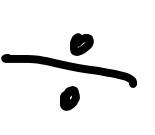div: (3, 33, 138, 111)
